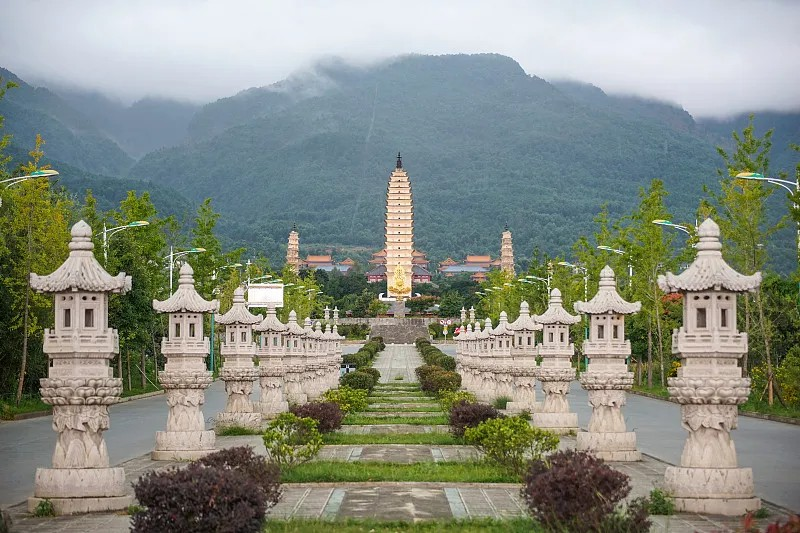ThreePagoda: (384, 151, 414, 298)
